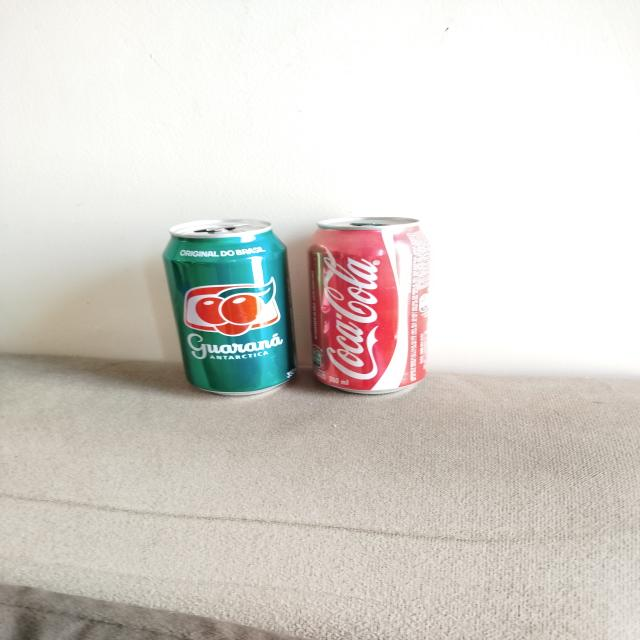Coca Cola: (311, 216, 436, 396)
Guarana: (162, 219, 296, 396)
